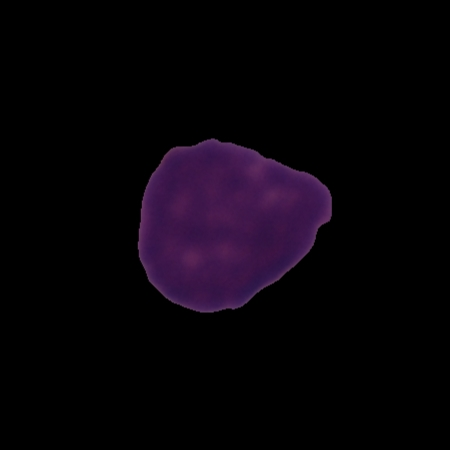HEM: (135, 134, 338, 315)
